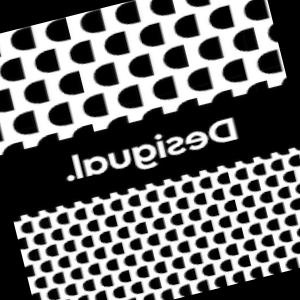desigual: (216, 52, 271, 157)
